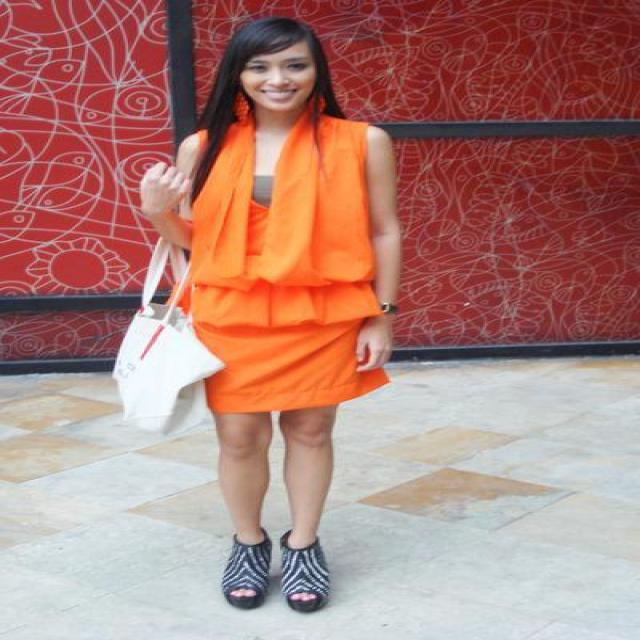bag: (114, 243, 222, 430)
dress: (176, 94, 389, 413)
shirt: (250, 166, 274, 205)
shoe: (222, 528, 330, 612)
